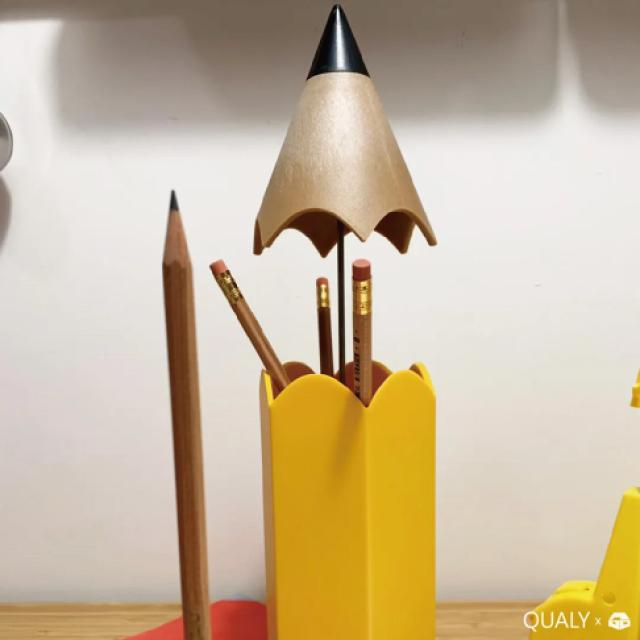pencil: (153, 177, 218, 640), (205, 252, 300, 401), (347, 252, 378, 412), (310, 271, 334, 384)
